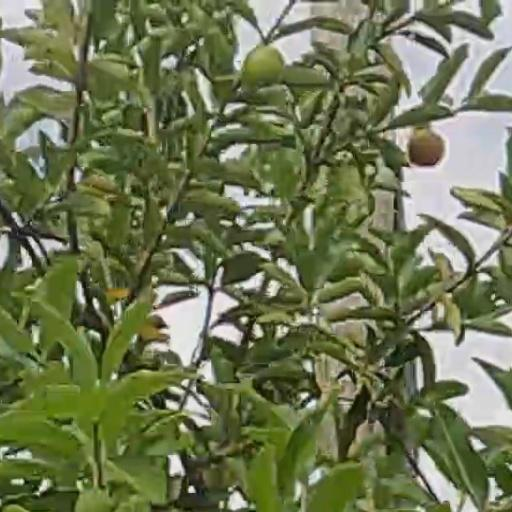acerola_verde: (246, 48, 282, 83)
acerola_vermelha: (408, 130, 442, 167)
